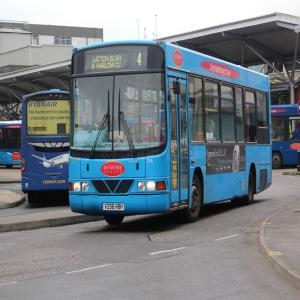Vehicle-registration-plate: (104, 204, 126, 214)
